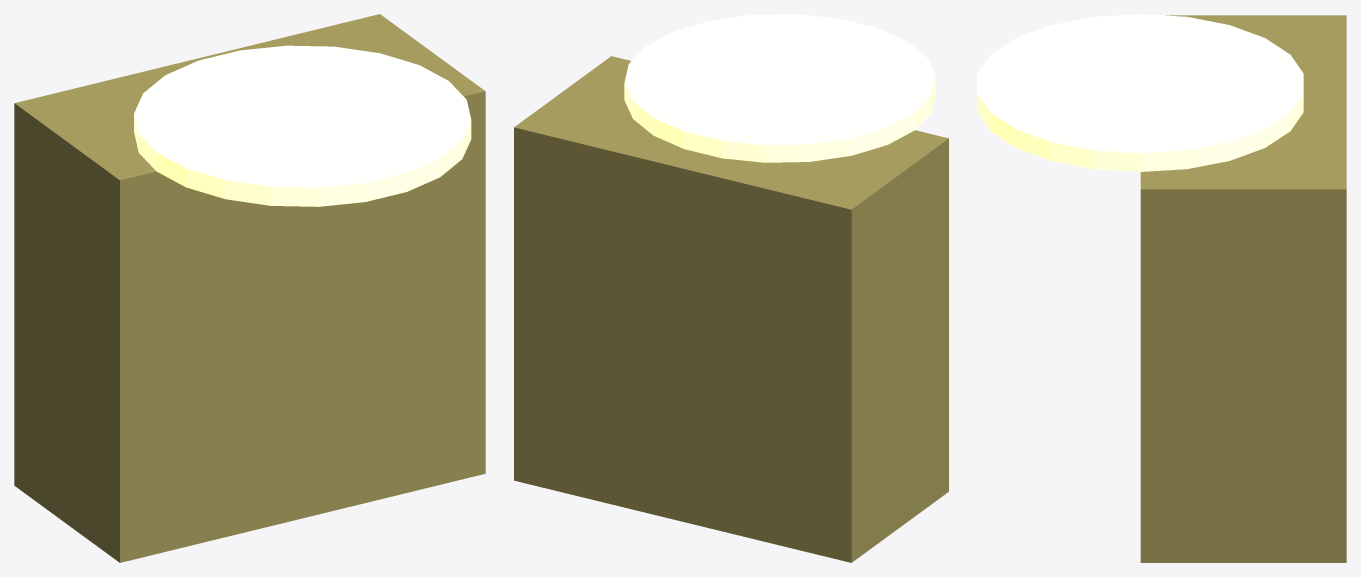
File: Goal_VerticalSlab.glb
3 renders of one model, left to right at view 1: azimuth 30°, elevation 25°; view 2: azimuth 150°, elevation 25°; view 3: azimuth 270°, elevation 25°, orthographic. The views are drawn at different scales.
Visible parts, largest first — view 1: Goal_VerticalSlab_body, glow_disc.003; view 2: Goal_VerticalSlab_body, glow_disc.003; view 3: Goal_VerticalSlab_body, glow_disc.003.
Boxes of the visible parts, box(x1,y1,x2,y2) form: Goal_VerticalSlab_body: box(14, 14, 485, 562); glow_disc.003: box(134, 45, 471, 206); Goal_VerticalSlab_body: box(514, 56, 948, 562); glow_disc.003: box(624, 14, 935, 162); Goal_VerticalSlab_body: box(1140, 15, 1346, 562); glow_disc.003: box(977, 14, 1303, 171).
Size of the model in its own units: 1 by 1.05 by 0.8959.
